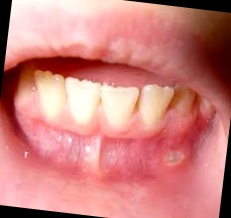Ulcer: (157, 148, 187, 168)
